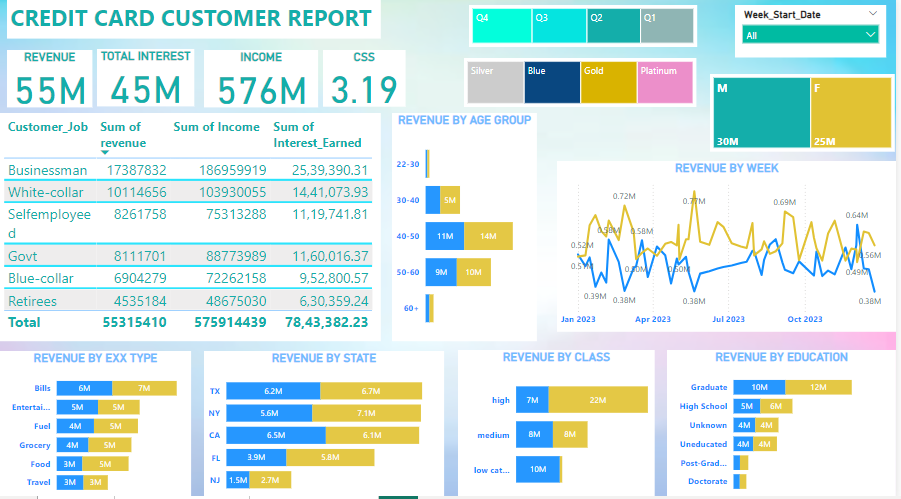

Layout of this report page (visuals, bound fields, positions):
{"tool":"powerbi","page":{"name":"customer report","canvas":[1280,720],"ordinal":2},"visuals":[{"type":"barChart","title":"REVENUE BY EXX TYPE","fields":{"Category":["ccdb cc_detail.Exp Type"],"Y":["Sum(ccdb cc_detail.revenue)"],"Series":["ccdb cust_detail.Gender"]},"box":[0,504.5,272.7,214.8],"z":0},{"type":"tableEx","fields":{"Values":["ccdb cust_detail.Customer_Job","Sum(ccdb cc_detail.revenue)","Sum(ccdb cust_detail.Income)","Sum(ccdb cc_detail.Interest_Earned)"]},"box":[0,164.4,544.3,326],"z":1000},{"type":"card","title":"REVENUE","fields":{"Values":["Sum(ccdb cc_detail.revenue)"]},"box":[9.9,73.7,121.9,82.2],"z":2000},{"type":"card","title":"TOTAL INTEREST","fields":{"Values":["Sum(ccdb cc_detail.Total_Trans_Amt)"]},"box":[138.9,72.3,138.9,82.2],"z":3000},{"type":"card","title":"INCOME","fields":{"Values":["Sum(ccdb cust_detail.Income)"]},"box":[292,73.7,163,82.2],"z":4000},{"type":"card","title":"CSS","fields":{"Values":["Avg(ccdb cust_detail.Cust_Satisfaction_Score)"]},"box":[462,73.7,117.6,80.8],"z":5000},{"type":"slicer","fields":{"Values":["ccdb cc_detail.Week_Start_Date"]},"box":[1049.9,10.2,216.5,75],"z":6000},{"type":"treemap","fields":{"Group":["ccdb cc_detail.Qtr"],"Values":["Avg(ccdb cust_detail.ï»¿Client_Num)"]},"box":[670.4,9.9,326,59.5],"z":7000},{"type":"treemap","fields":{"Group":["ccdb cc_detail.Card_Category"],"Values":["Avg(ccdb cust_detail.ï»¿Client_Num)"]},"box":[663,85.2,332.4,69.9],"z":8000},{"type":"textbox","box":[9.9,0,534.3,58.1],"z":9000},{"type":"lineChart","title":"REVENUE BY WEEK","fields":{"Y":["Sum(ccdb cc_detail.revenue)"],"Series":["ccdb cust_detail.Gender"],"Category":["ccdb cc_detail.Week_Start_Date"]},"box":[795.1,232.4,484.7,243.8],"z":10000},{"type":"treemap","fields":{"Group":["ccdb cust_detail.Gender"],"Values":["Sum(ccdb cc_detail.revenue)"]},"box":[1014.1,109.1,264.2,110.8],"z":11000},{"type":"barChart","title":"REVENUE BY CLASS","fields":{"Y":["Sum(ccdb cc_detail.revenue)"],"Category":["ccdb cust_detail.income group"],"Series":["ccdb cust_detail.Gender"]},"box":[654.5,502.8,281.2,216.5],"z":12000},{"type":"barChart","title":"REVENUE BY AGE GROUP","fields":{"Category":["ccdb cust_detail.age group"],"Y":["Sum(ccdb cc_detail.revenue)"],"Series":["ccdb cust_detail.Gender"]},"box":[559.8,164.4,206.9,326],"z":13000},{"type":"barChart","title":"REVENUE BY EDUCATION","fields":{"Category":["ccdb cust_detail.Education_Level"],"Y":["Sum(ccdb cc_detail.revenue)"],"Series":["ccdb cust_detail.Gender"]},"box":[952.8,502.8,327.2,214.8],"z":14000},{"type":"barChart","title":"REVENUE BY STATE","fields":{"Category":["ccdb cust_detail.state_cd"],"Y":["Sum(ccdb cc_detail.revenue)"],"Series":["ccdb cust_detail.Gender"]},"box":[291.5,504.5,342.6,214.8],"z":15000}]}

Visuals, with their boxes in screenshot pixels (x1, y1, x2, y2), scaled from the page's 1280x720 canvas onto the 901x499 screenshot:
"REVENUE BY EXX TYPE" barChart: rect(0, 350, 192, 498)
tableEx - ccdb cust_detail.Customer_Job x Sum(ccdb cc_detail.revenue): rect(0, 114, 383, 340)
"REVENUE" card: rect(7, 51, 93, 108)
"TOTAL INTEREST" card: rect(98, 50, 196, 107)
"INCOME" card: rect(206, 51, 320, 108)
"CSS" card: rect(325, 51, 408, 107)
slicer - ccdb cc_detail.Week_Start_Date: rect(739, 7, 891, 59)
treemap - ccdb cc_detail.Qtr x Avg(ccdb cust_detail.ï»¿Client_Num): rect(472, 7, 701, 48)
treemap - ccdb cc_detail.Card_Category x Avg(ccdb cust_detail.ï»¿Client_Num): rect(467, 59, 701, 107)
textbox: rect(7, 0, 383, 40)
"REVENUE BY WEEK" lineChart: rect(560, 161, 900, 330)
treemap - ccdb cust_detail.Gender x Sum(ccdb cc_detail.revenue): rect(714, 76, 900, 152)
"REVENUE BY CLASS" barChart: rect(461, 348, 659, 498)
"REVENUE BY AGE GROUP" barChart: rect(394, 114, 540, 340)
"REVENUE BY EDUCATION" barChart: rect(671, 348, 900, 497)
"REVENUE BY STATE" barChart: rect(205, 350, 446, 498)
